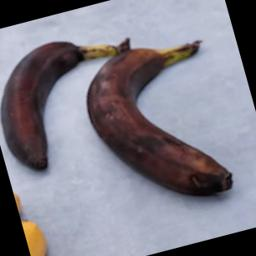Banana Rotten: (76, 5, 249, 212)
